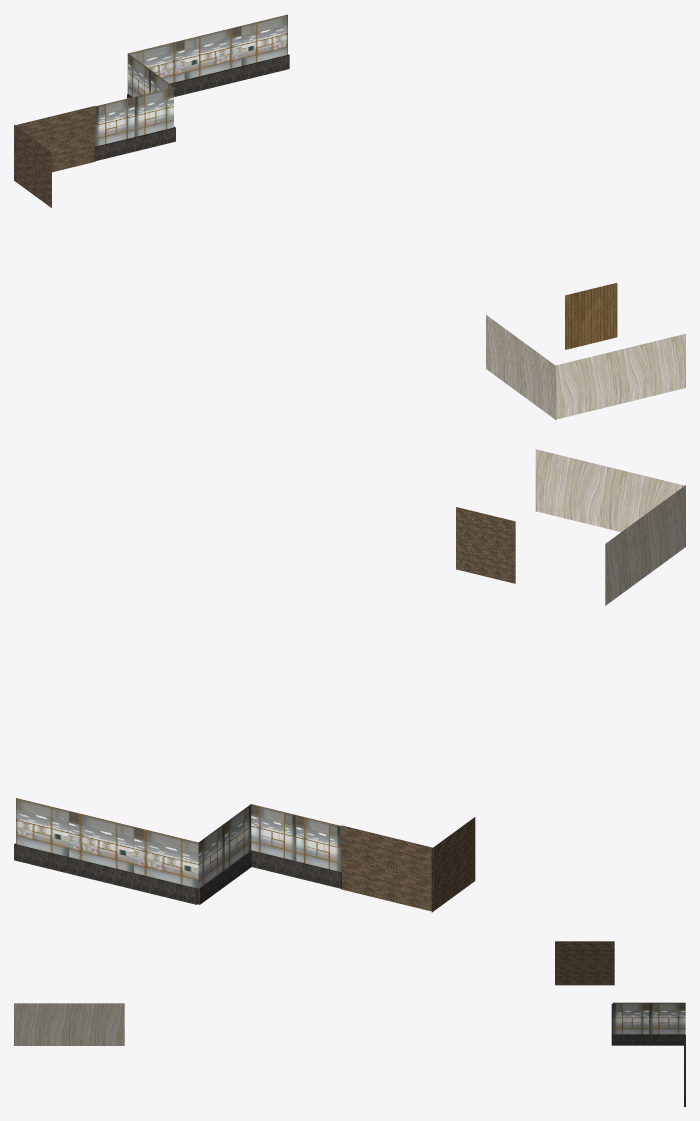
File: Paredes_Entorno.obj
3 renders of one model, top to bottom at view 1: azimuth 30°, elevation 25°; view 2: azimuth 150°, elevation 25°; view 3: azimuth 270°, elevation 25°, orthographic. The views are drawn at different scales.
Visible parts, largest first — view 1: Paredes_Entorno; view 2: Paredes_Entorno; view 3: Paredes_Entorno.
Part boxes in pixels (box(x1,y1,x2,y2)): Paredes_Entorno: box(14, 14, 685, 419); Paredes_Entorno: box(14, 449, 685, 912); Paredes_Entorno: box(14, 941, 685, 1106).
Size of the model in its own units: 37 by 6.2 by 85.69.
6 materials, 6 textured.
